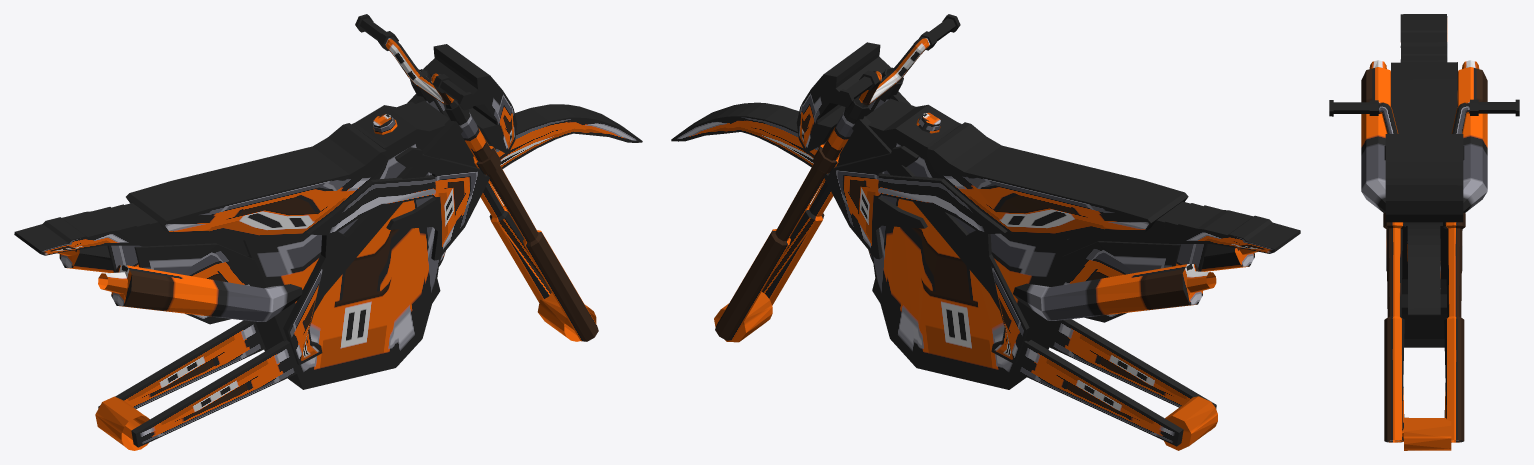
3 renders of one model, left to right at view 1: azimuth 30°, elevation 25°; view 2: azimuth 150°, elevation 25°; view 3: azimuth 270°, elevation 25°, orthographic. The views are drawn at different scales.
Parts seen in each view (by area): view 1: Tank_engine_0, Seat_seat_0, Back-Support_front-support_0, Cylincer_cylincer_0, Top-Support_body-cover2_0, Middle-Support_front-support_0, BackCover_cylincer_0, Front-support_front-support_0, Side-Support_body-cover2_0, Meter_body-cover2_0, Front-Cover_body-cover2_0, Handle_cylincer_0 (+5 smaller); view 2: Tank_engine_0, Seat_seat_0, Back-Support_front-support_0, Top-Support_body-cover2_0, Cylincer_cylincer_0, BackCover_cylincer_0, Front-support_front-support_0, Middle-Support_front-support_0, Side-Support_body-cover2_0, Front-Cover_body-cover2_0, Meter_body-cover2_0, Handle_cylincer_0 (+5 smaller); view 3: Meter_body-cover2_0, Cylincer_cylincer_0, Front-support_front-support_0, Seat_seat_0, Front-Cover_body-cover2_0, Front-support_cylincer_0, Tank_engine_0, BackCover_cylincer_0, Inner-Tyre002_inner-connect_0, Handle_cylincer_0, Handle_Tyre_0, Front-support_body-cover2_0.
Boxes of the visible parts, left/top/right/bottom form: Tank_engine_0: left=243, top=100, right=475, bottom=389; Seat_seat_0: left=126, top=123, right=387, bottom=241; Back-Support_front-support_0: left=98, top=320, right=299, bottom=447; Cylincer_cylincer_0: left=58, top=245, right=302, bottom=321; Top-Support_body-cover2_0: left=307, top=147, right=489, bottom=260; Middle-Support_front-support_0: left=283, top=94, right=462, bottom=365; BackCover_cylincer_0: left=14, top=203, right=248, bottom=255; Front-support_front-support_0: left=412, top=69, right=598, bottom=341; Side-Support_body-cover2_0: left=107, top=243, right=266, bottom=324; Meter_body-cover2_0: left=423, top=44, right=517, bottom=154; Front-Cover_body-cover2_0: left=439, top=104, right=642, bottom=266; Handle_cylincer_0: left=355, top=14, right=476, bottom=110; Tank_engine_0: left=837, top=98, right=1071, bottom=389; Seat_seat_0: left=926, top=122, right=1188, bottom=239; Back-Support_front-support_0: left=1014, top=319, right=1216, bottom=446; Top-Support_body-cover2_0: left=824, top=146, right=1007, bottom=259; Cylincer_cylincer_0: left=1013, top=244, right=1258, bottom=320; BackCover_cylincer_0: left=1066, top=201, right=1300, bottom=254; Front-support_front-support_0: left=715, top=68, right=902, bottom=340; Middle-Support_front-support_0: left=852, top=91, right=1029, bottom=363; Side-Support_body-cover2_0: left=1050, top=241, right=1207, bottom=322; Front-Cover_body-cover2_0: left=671, top=102, right=873, bottom=262; Meter_body-cover2_0: left=796, top=42, right=890, bottom=153; Handle_cylincer_0: left=836, top=14, right=960, bottom=107; Meter_body-cover2_0: left=1385, top=134, right=1463, bottom=222; Cylincer_cylincer_0: left=1361, top=60, right=1487, bottom=212; Front-support_front-support_0: left=1384, top=316, right=1464, bottom=442; Seat_seat_0: left=1391, top=62, right=1457, bottom=133; Front-Cover_body-cover2_0: left=1407, top=223, right=1440, bottom=315; Front-support_cylincer_0: left=1386, top=228, right=1462, bottom=317; Tank_engine_0: left=1401, top=222, right=1447, bottom=347; BackCover_cylincer_0: left=1400, top=14, right=1447, bottom=62; Inner-Tyre002_inner-connect_0: left=1399, top=417, right=1451, bottom=450; Handle_cylincer_0: left=1329, top=99, right=1519, bottom=133; Handle_Tyre_0: left=1333, top=102, right=1515, bottom=113; Front-support_body-cover2_0: left=1383, top=145, right=1465, bottom=229.
Bounding box in the file's own units: 1.55 × 0.7731 × 0.4727.
1 material, 1 textured.
